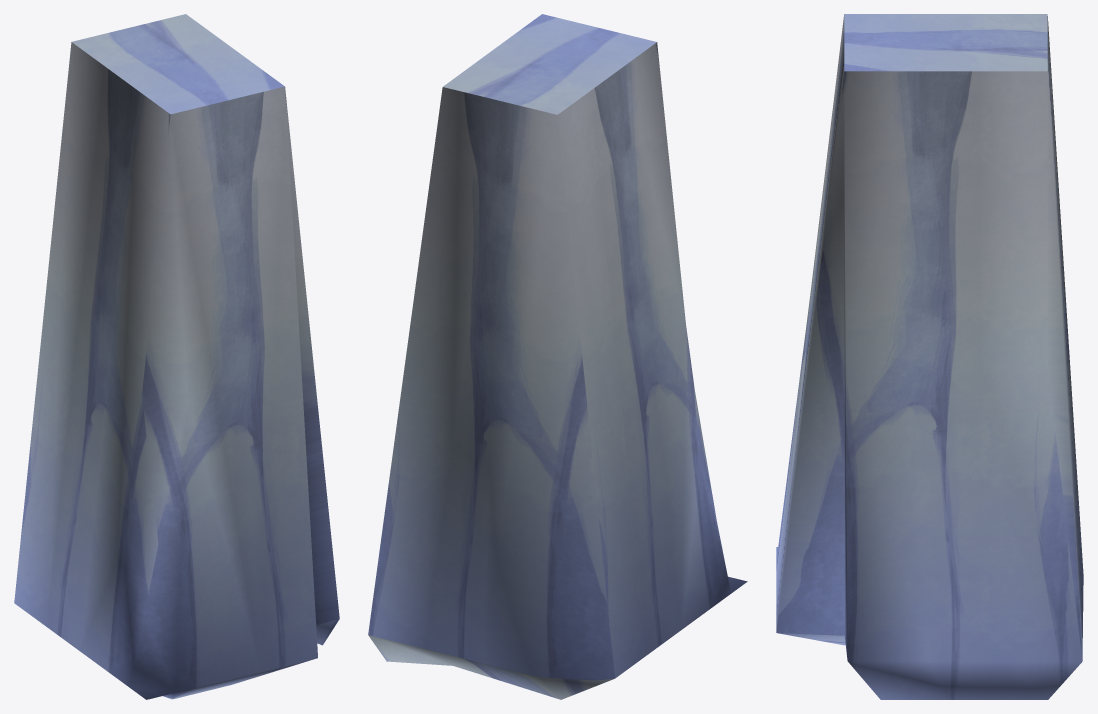
The model's file is rockeroo_bald.glb.
The picture shows the model from 3 angles, left to right: view 1: azimuth 30°, elevation 25°; view 2: azimuth 150°, elevation 25°; view 3: azimuth 270°, elevation 25°; orthographic projection. The views are drawn at different scales.
Visible parts, largest first — view 1: rockeroo_bald; view 2: rockeroo_bald; view 3: rockeroo_bald.
Part boxes in pixels (x1,y1,x2,y2): rockeroo_bald: (14,14,339,699); rockeroo_bald: (368,14,747,699); rockeroo_bald: (776,14,1083,699).
Size of the model in its own units: 20 by 49.86 by 22.65.
Materials: 1 (1 with a texture image).
